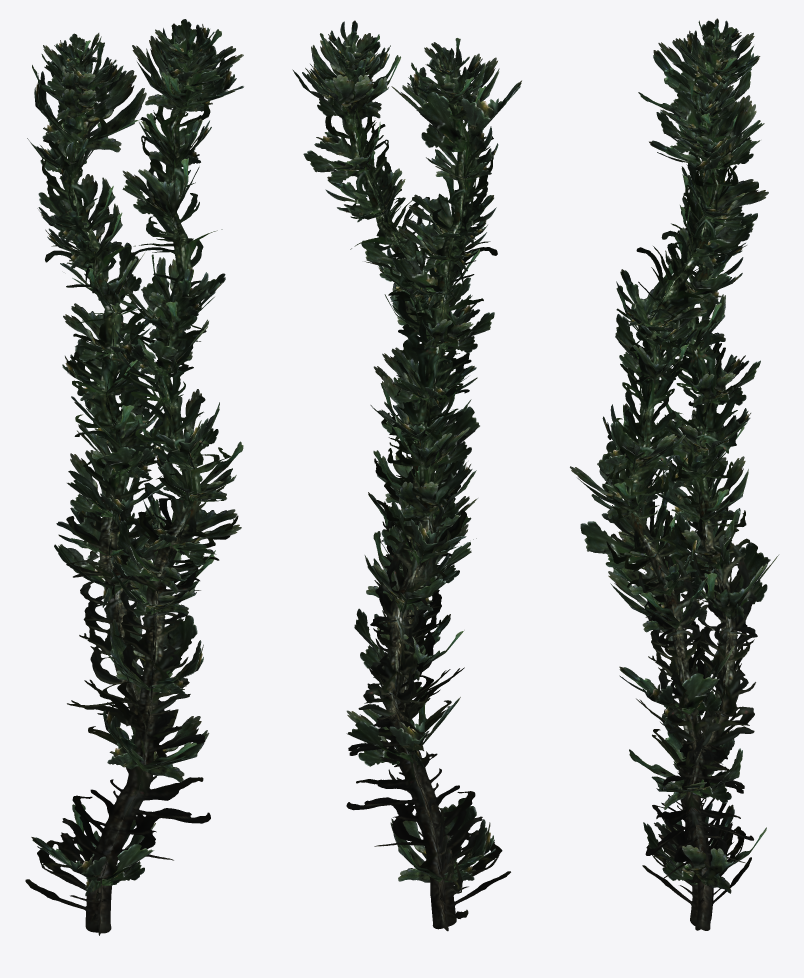
File: PondWeed.006_FBX_still.fbx
The picture shows the model from 3 angles, left to right: view 1: azimuth 30°, elevation 25°; view 2: azimuth 150°, elevation 25°; view 3: azimuth 270°, elevation 25°; orthographic projection.
Visible parts, largest first — view 1: PondWeed.006_gameasset; view 2: PondWeed.006_gameasset; view 3: PondWeed.006_gameasset.
Boxes of the visible parts, box(x1,y1,x2,y2) form: PondWeed.006_gameasset: box(25, 19, 243, 935); PondWeed.006_gameasset: box(292, 20, 521, 931); PondWeed.006_gameasset: box(570, 18, 779, 930).
Bounding box in the file's own units: 5.09 × 21.13 × 4.78.
Materials: 2 (2 with a texture image).
